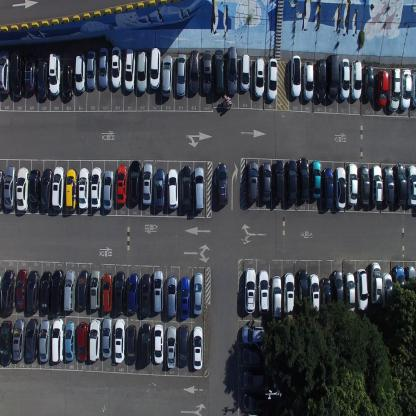car: (0, 267, 16, 316), (50, 269, 64, 317), (9, 50, 22, 100), (25, 316, 39, 362), (22, 52, 36, 96), (388, 67, 402, 111), (12, 317, 26, 361), (327, 52, 339, 102), (332, 270, 345, 316), (180, 164, 193, 210), (369, 260, 382, 306), (4, 164, 17, 210), (394, 162, 407, 207), (216, 162, 229, 207), (63, 269, 76, 313), (15, 268, 28, 312), (0, 320, 13, 364), (298, 156, 310, 203), (129, 159, 141, 206), (393, 265, 406, 308), (273, 158, 285, 204), (244, 267, 256, 313), (258, 268, 270, 314), (52, 318, 64, 364), (241, 325, 267, 346), (356, 268, 369, 310), (115, 164, 128, 206), (344, 272, 356, 317), (193, 166, 205, 211), (113, 272, 125, 317), (160, 53, 172, 98), (48, 52, 60, 97), (51, 166, 63, 211), (241, 346, 268, 366), (27, 268, 39, 313), (38, 318, 50, 363), (17, 166, 29, 211), (260, 160, 272, 204), (213, 49, 224, 97), (188, 49, 200, 93), (315, 57, 327, 101), (123, 48, 135, 92), (40, 168, 52, 212), (77, 168, 89, 212), (40, 270, 52, 314), (89, 318, 101, 362), (141, 161, 153, 205), (382, 165, 395, 205), (376, 68, 389, 108), (297, 267, 308, 314), (179, 277, 191, 320), (283, 271, 295, 314), (101, 316, 113, 359), (154, 168, 166, 211), (286, 160, 297, 206), (167, 168, 179, 210), (382, 271, 394, 313), (322, 167, 334, 209), (371, 164, 383, 206), (64, 320, 76, 362), (166, 275, 177, 320), (136, 49, 147, 94), (65, 168, 76, 213), (114, 318, 125, 363), (176, 52, 187, 97), (77, 270, 89, 311), (308, 273, 320, 314), (29, 169, 41, 210), (227, 46, 237, 95), (266, 57, 277, 101), (254, 55, 265, 99), (149, 46, 160, 90), (192, 272, 203, 316), (127, 273, 138, 317), (290, 53, 301, 97), (335, 166, 346, 210), (90, 167, 101, 211), (110, 46, 121, 90), (97, 45, 108, 89), (192, 325, 203, 369), (166, 325, 177, 369), (140, 322, 151, 366), (350, 59, 362, 99), (363, 62, 375, 102), (243, 392, 268, 411), (140, 275, 151, 318), (101, 273, 112, 316), (347, 163, 358, 206), (302, 61, 314, 100), (242, 370, 268, 388), (74, 52, 85, 94), (103, 168, 114, 210), (61, 63, 73, 101), (359, 165, 370, 206), (85, 49, 96, 90), (321, 276, 332, 317), (36, 61, 47, 102), (126, 324, 137, 365), (153, 271, 163, 316), (272, 274, 282, 319), (248, 160, 258, 204), (202, 50, 212, 94), (340, 57, 350, 101), (90, 268, 100, 312), (406, 264, 416, 308), (179, 323, 189, 367), (77, 322, 88, 362), (402, 67, 412, 110), (311, 159, 321, 200), (0, 51, 9, 96), (154, 324, 164, 364), (240, 54, 250, 92), (408, 164, 416, 206), (0, 169, 5, 211), (411, 71, 416, 108)
